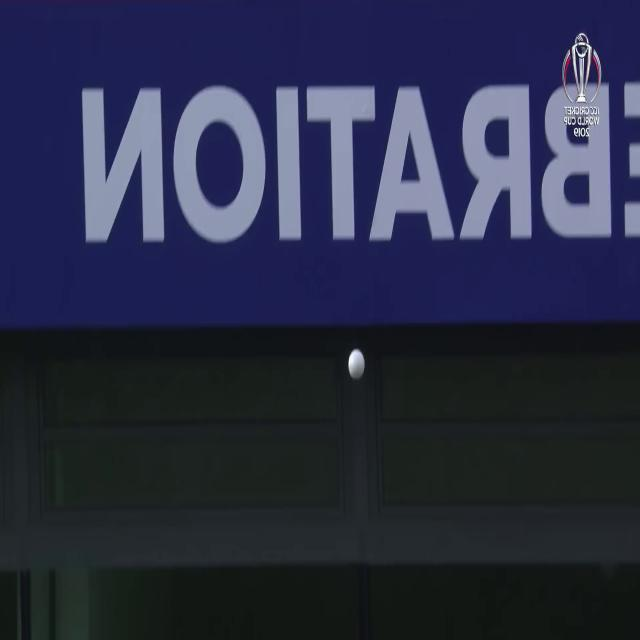ball: (342, 345, 369, 387)
